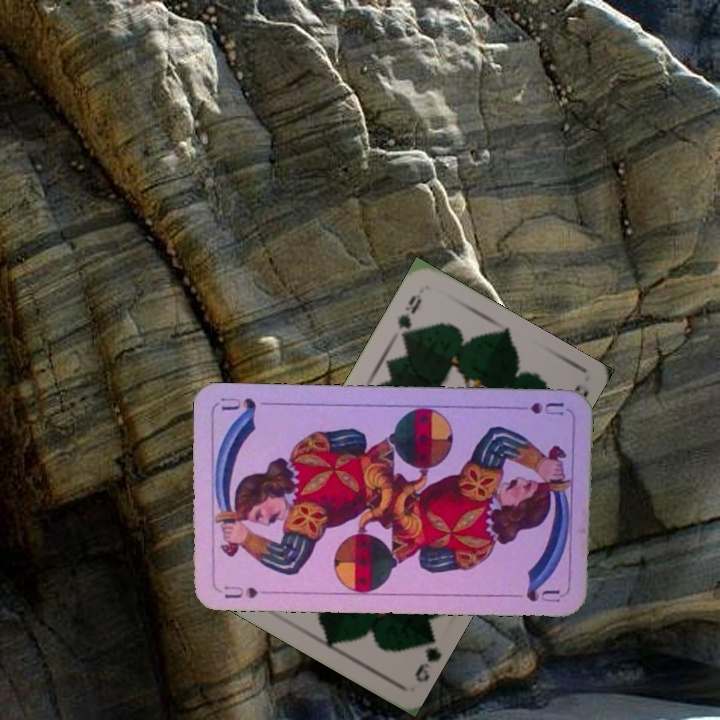G9: (410, 629, 443, 686), (393, 289, 424, 345)
SU: (508, 398, 566, 418), (220, 581, 261, 601)
